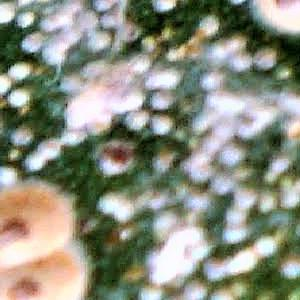Femea: (0, 192, 57, 265), (0, 261, 70, 299)
Linfa: (215, 186, 255, 247), (21, 26, 65, 68), (202, 129, 248, 169), (141, 204, 187, 242), (231, 249, 267, 275), (140, 69, 177, 92), (116, 90, 147, 113), (146, 114, 178, 135), (177, 276, 206, 299), (150, 91, 177, 112), (97, 190, 121, 213), (254, 48, 276, 73), (195, 14, 220, 35), (230, 53, 253, 74), (200, 70, 225, 89), (253, 233, 275, 254), (7, 87, 27, 110), (280, 259, 299, 283), (7, 61, 30, 80), (27, 152, 48, 170), (41, 138, 59, 158)
